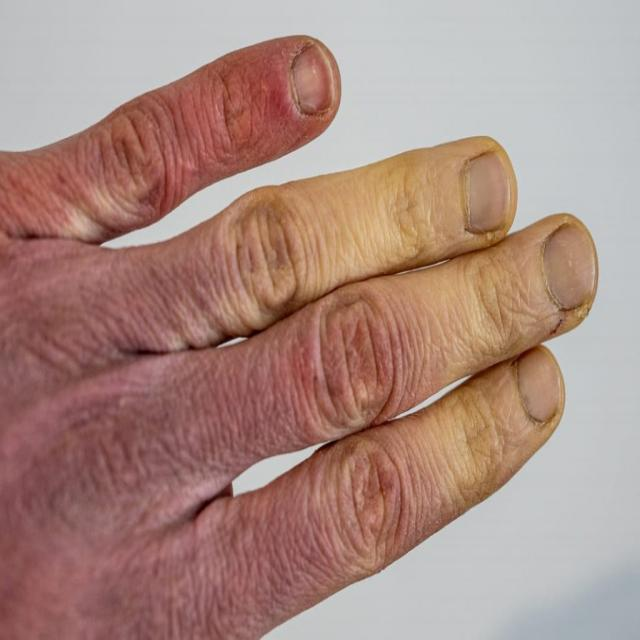raynauds: (403, 168, 614, 512), (280, 99, 517, 284)
